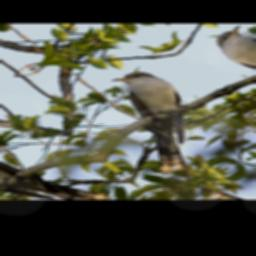Cuckoo: (66, 65, 248, 177)
